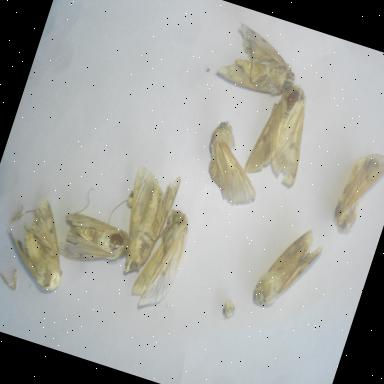abw: (102, 160, 185, 284), (238, 76, 325, 192), (0, 186, 87, 299), (246, 215, 331, 324), (123, 198, 200, 318), (189, 113, 279, 215), (211, 16, 309, 103), (50, 201, 138, 279), (325, 141, 384, 246)
